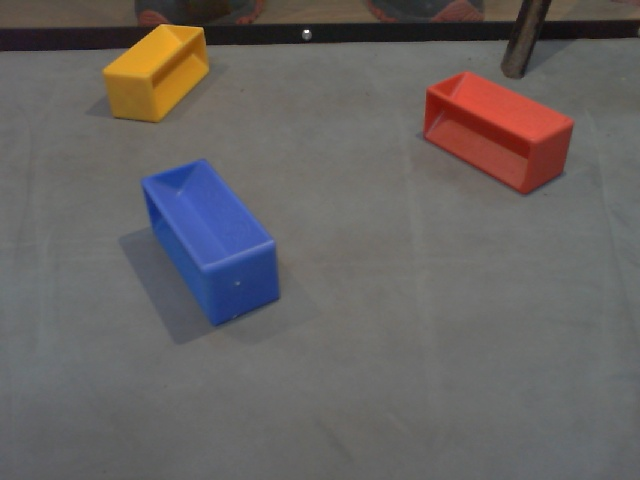BlueSample: (139, 155, 283, 331)
RedSample: (417, 65, 580, 198)
YellowSample: (99, 20, 211, 126)
